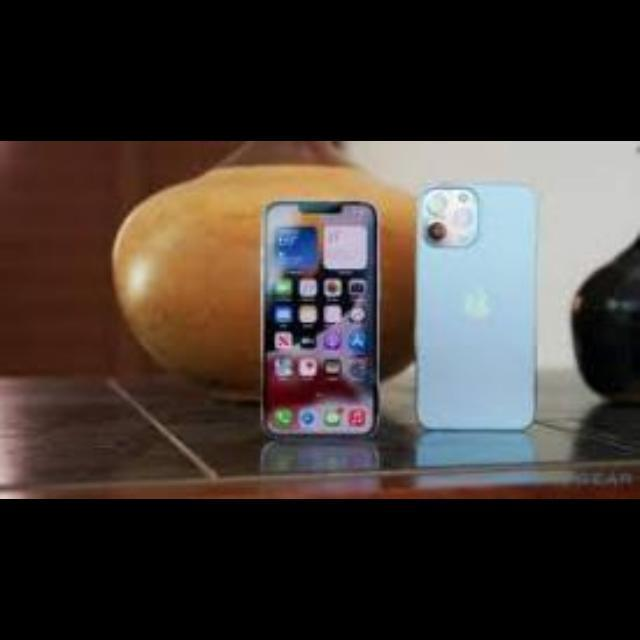PhoneUse: (414, 183, 536, 429), (260, 198, 382, 442)
